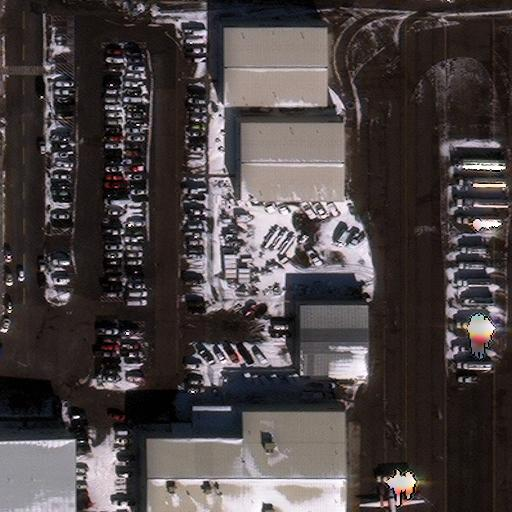Medium Civil Transport: (360, 487, 424, 512)
